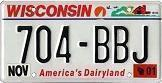placa de veiculo: (3, 1, 160, 82)
